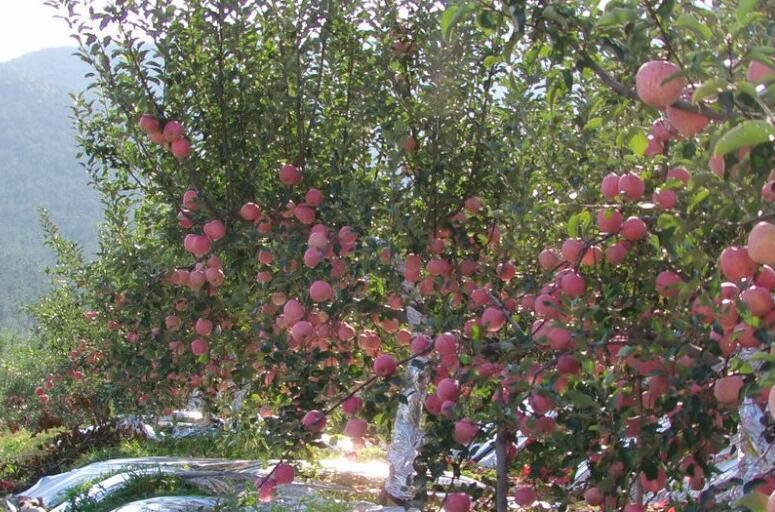apple: (635, 61, 685, 104), (720, 245, 756, 281), (748, 220, 775, 267)
